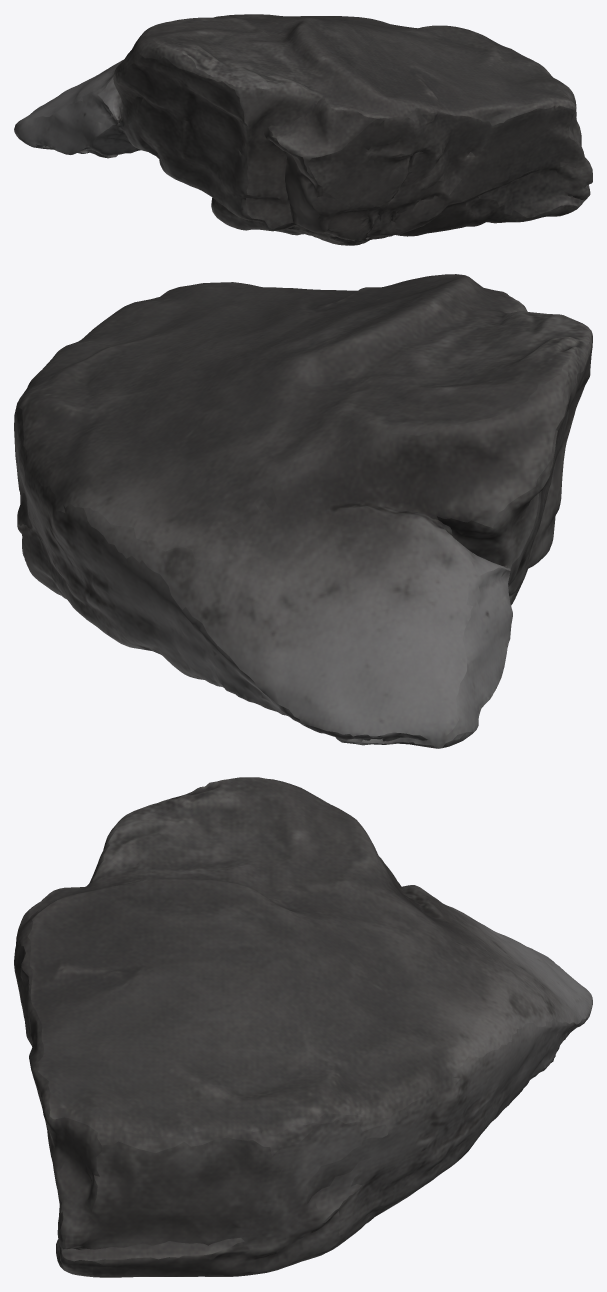
The picture shows the model from 3 angles, top to bottom: view 1: azimuth 30°, elevation 25°; view 2: azimuth 150°, elevation 25°; view 3: azimuth 270°, elevation 25°; orthographic projection. The views are drawn at different scales.
Visible parts, largest first — view 1: world; view 2: world; view 3: world.
Boxes of the visible parts, x1,y1,x2,y2 form: world: (14, 14, 592, 245); world: (14, 274, 592, 748); world: (14, 777, 592, 1277).
Bounding box in the file's own units: 3.5 × 1.7 × 3.22.
1 material, 1 textured.
